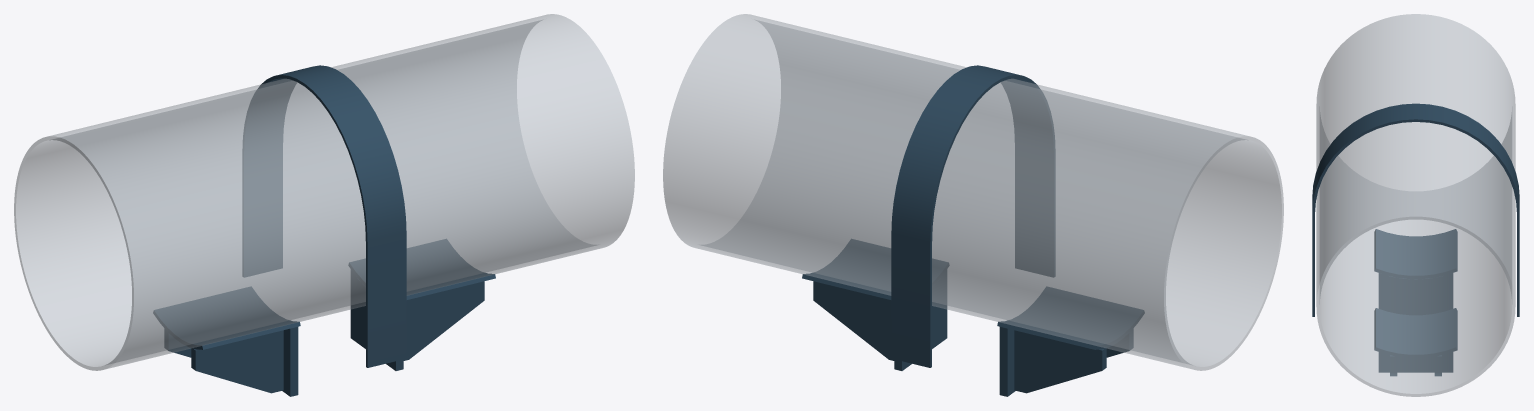
File: TS-669.00.00-07-opora-dn426-ris1.glb
The picture shows the model from 3 angles, left to right: view 1: azimuth 30°, elevation 25°; view 2: azimuth 150°, elevation 25°; view 3: azimuth 270°, elevation 25°; orthographic projection. The views are drawn at different scales.
Visible parts, largest first — view 1: truba, homut_9, upor_8, upor_6, upor_4, upor_2, upor_1, upor_5; view 2: truba, homut_9, upor_8, upor_7, upor_4, upor_3, upor_1, upor_5; view 3: truba, homut_9, upor_8, upor_4, upor_5, upor_1.
Part boxes in pixels (x1,y1,x2,y2): truba: (14,14,634,370); homut_9: (242,65,406,367); upor_8: (153,287,300,349); upor_6: (191,330,283,393); upor_4: (348,239,495,299); upor_2: (403,281,484,360); upor_1: (350,270,403,370); upor_5: (282,327,298,396); truba: (663,14,1283,370); homut_9: (891,65,1055,367); upor_8: (997,287,1144,349); upor_7: (1014,330,1106,393); upor_4: (802,239,949,299); upor_3: (813,281,894,360); upor_1: (894,270,947,370); upor_5: (999,327,1015,396); truba: (1316,14,1515,396); homut_9: (1312,103,1519,316); upor_8: (1374,229,1457,279); upor_4: (1374,308,1457,357); upor_5: (1378,273,1453,315); upor_1: (1378,352,1453,372).
Bounding box in the file's own units: 1026 × 563 × 444.
